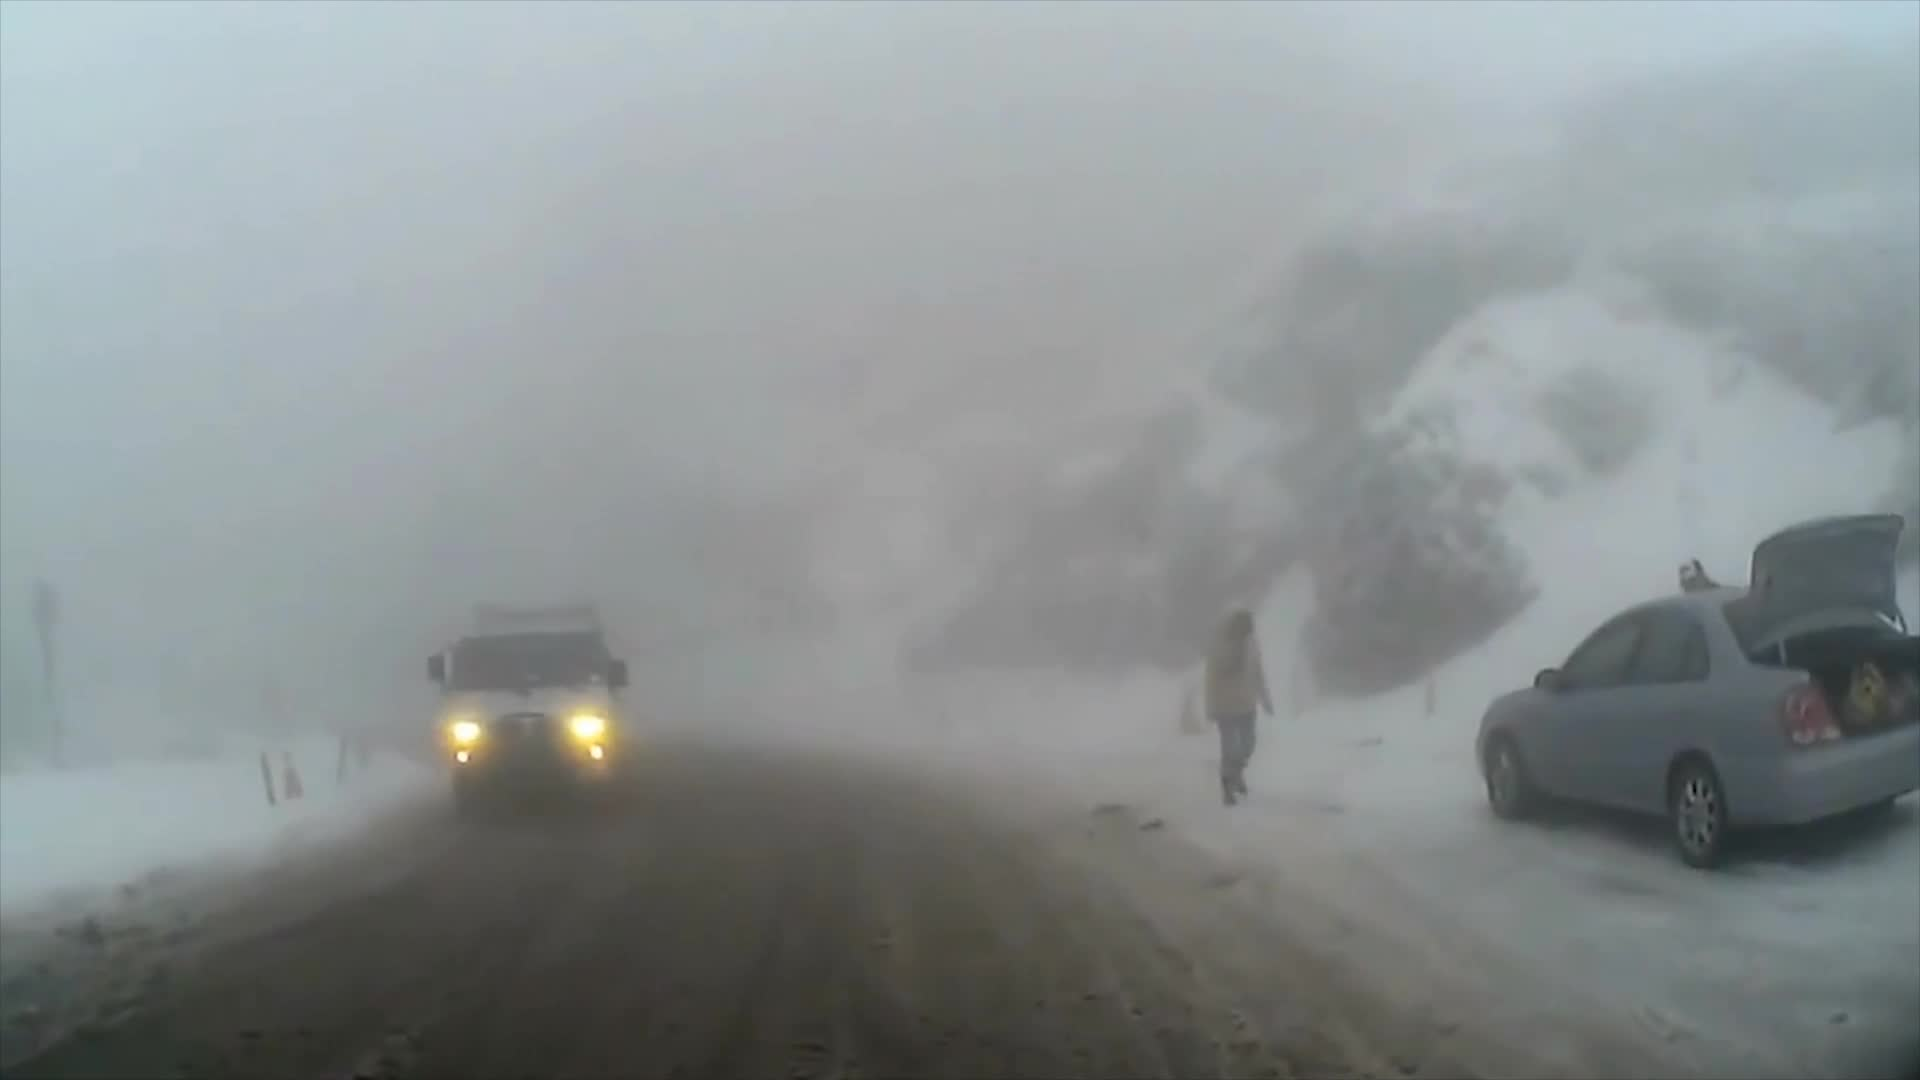pedestrian: (1201, 598, 1278, 800)
vehicle: (1473, 507, 1920, 869), (421, 598, 629, 819)
